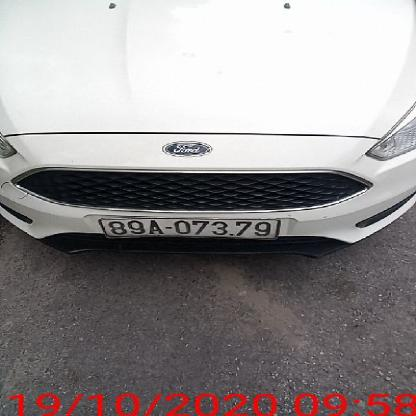biensoxe: (100, 214, 284, 248)
